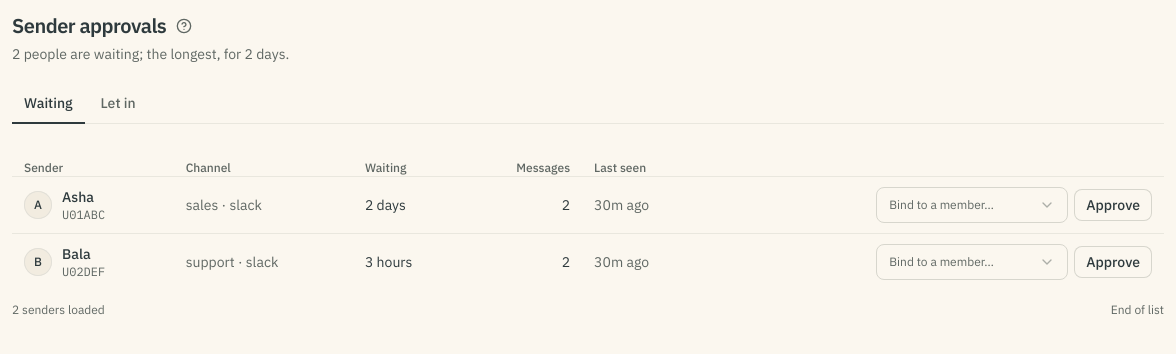
says to choose a member when Approve is pressed with none, and sends nothing
The image size is (1176, 354).
Expected: the text "Asha" is shown, [62,188,94,206]
Click the button "Approve" in the row of "Asha".
click(1113, 204)  # box [1074,188,1152,220]
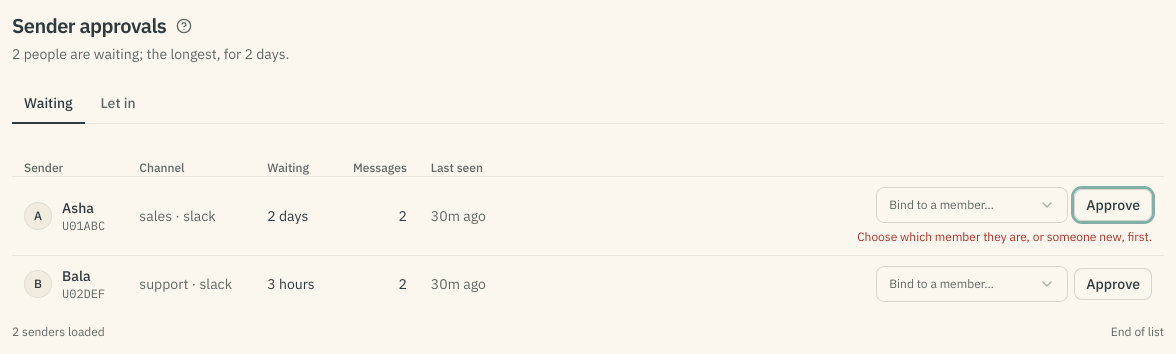
Expected: the message reads "Choose which member they are, or someone new, first.", [857,228,1152,244]
